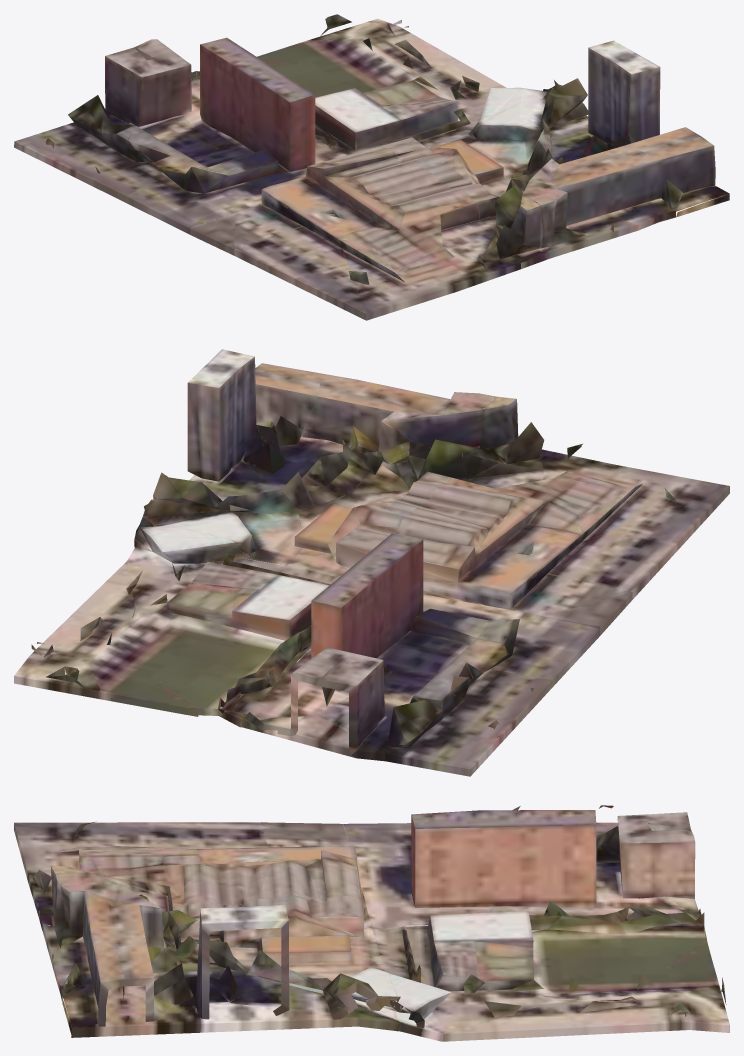
3 views of the same model, one above another, from view 1: azimuth 30°, elevation 25°; view 2: azimuth 150°, elevation 25°; view 3: azimuth 270°, elevation 25° (orthographic). The views are drawn at different scales.
Parts seen in each view (by area): view 1: Mesh_0; view 2: Mesh_0; view 3: Mesh_0.
Part boxes in pixels (x1,y1,x2,y2): Mesh_0: [14, 14, 729, 320]; Mesh_0: [14, 349, 729, 776]; Mesh_0: [14, 805, 729, 1041].
Size of the model in its own units: 266 by 74.62 by 329.
Materials: 2 (2 with a texture image).
